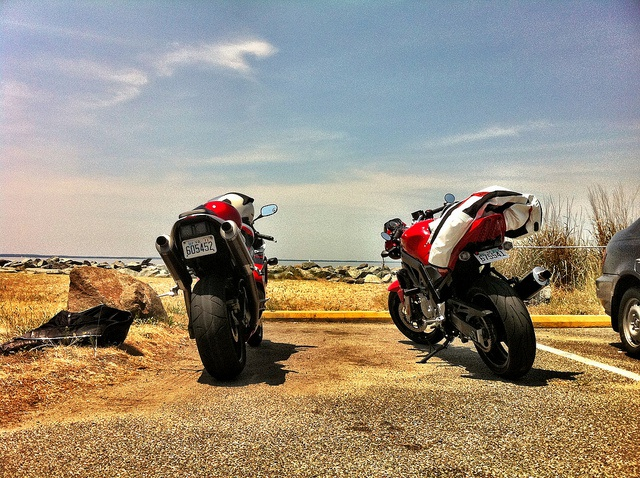non-vehicle: (382, 184, 549, 373), (157, 191, 280, 383)
